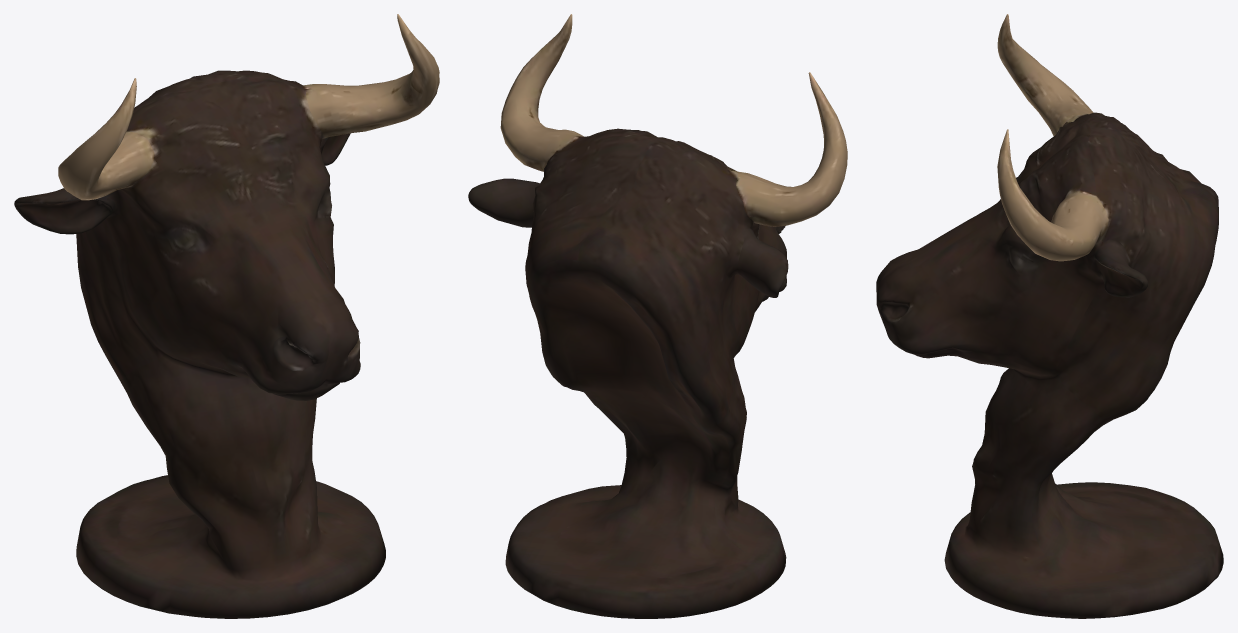
The model's file is bull_head.8214a0c6.glb.
The picture shows the model from 3 angles, left to right: view 1: azimuth 30°, elevation 25°; view 2: azimuth 150°, elevation 25°; view 3: azimuth 270°, elevation 25°; orthographic projection. The views are drawn at different scales.
Visible parts, largest first — view 1: bull_head; view 2: bull_head; view 3: bull_head.
Part boxes in pixels (x1=…): bull_head: x1=14, y1=14, x2=439, y2=618; bull_head: x1=468, y1=14, x2=847, y2=618; bull_head: x1=876, y1=14, x2=1223, y2=618.
Size of the model in its own units: 0.7075 by 1 by 0.6478.
Materials: 1 (1 with a texture image).
